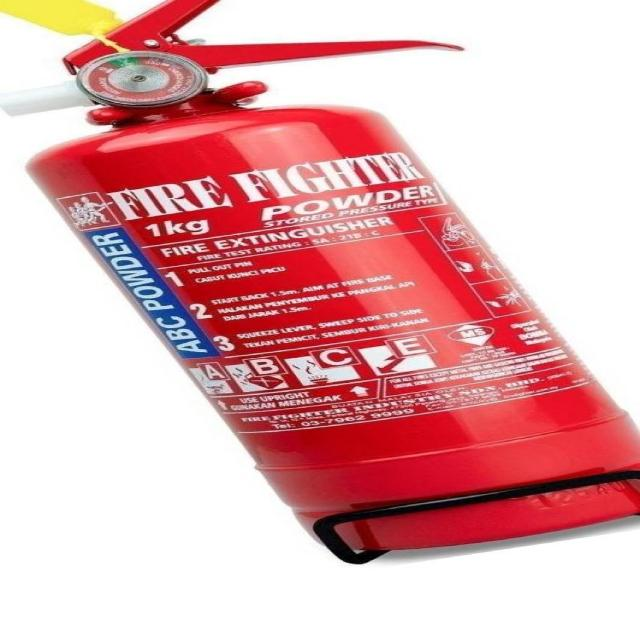fire_extinguisher: (1, 0, 639, 563)
